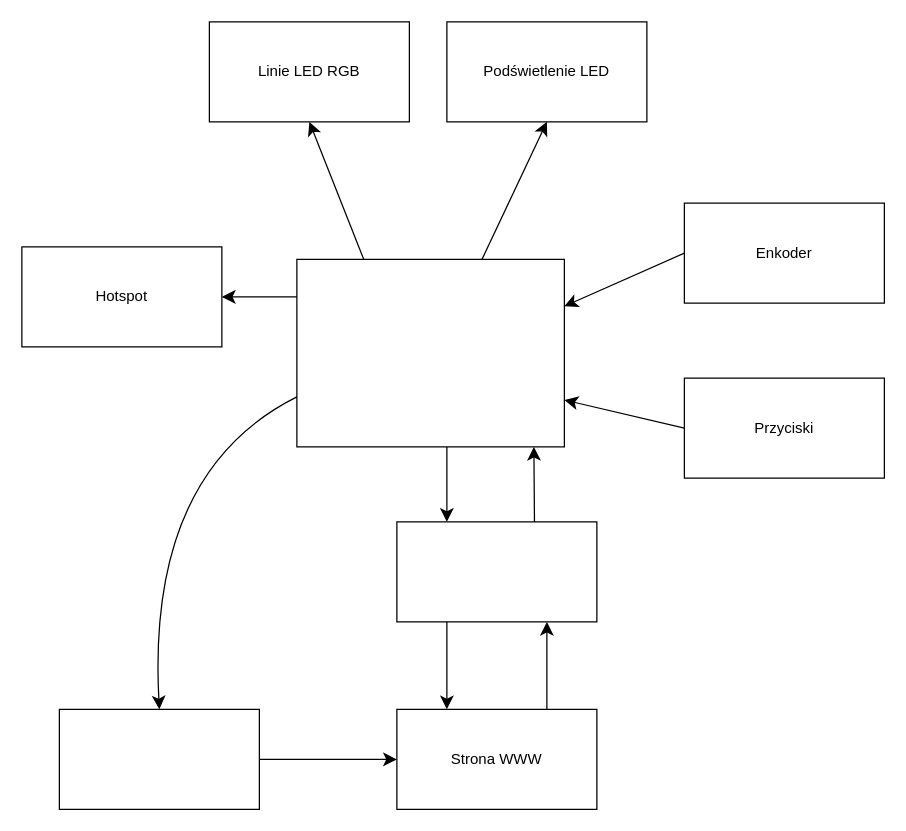
Image size: 906x831. Some labels were removed from this diagram. Here are the shapes that lost their labels. From the top down, the centre of each, then its label:
point (430, 352): ESP32-S3
point (496, 571): WebSocket Server
point (158, 758): Server
